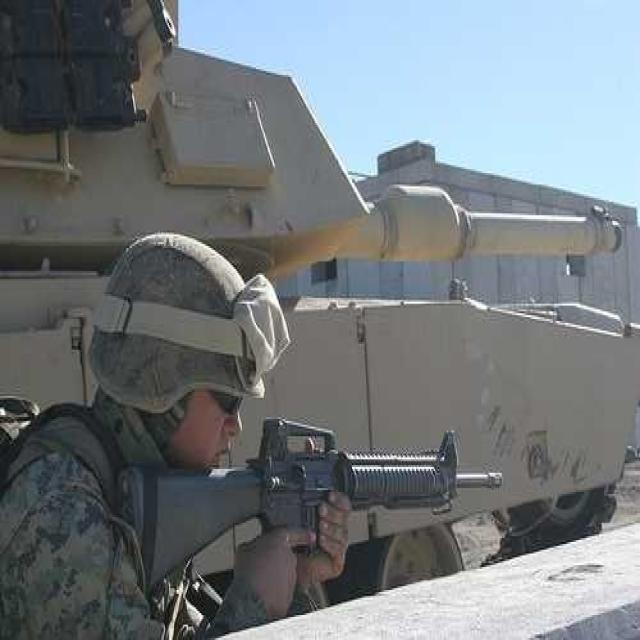RifleTel: (148, 424, 522, 584)
